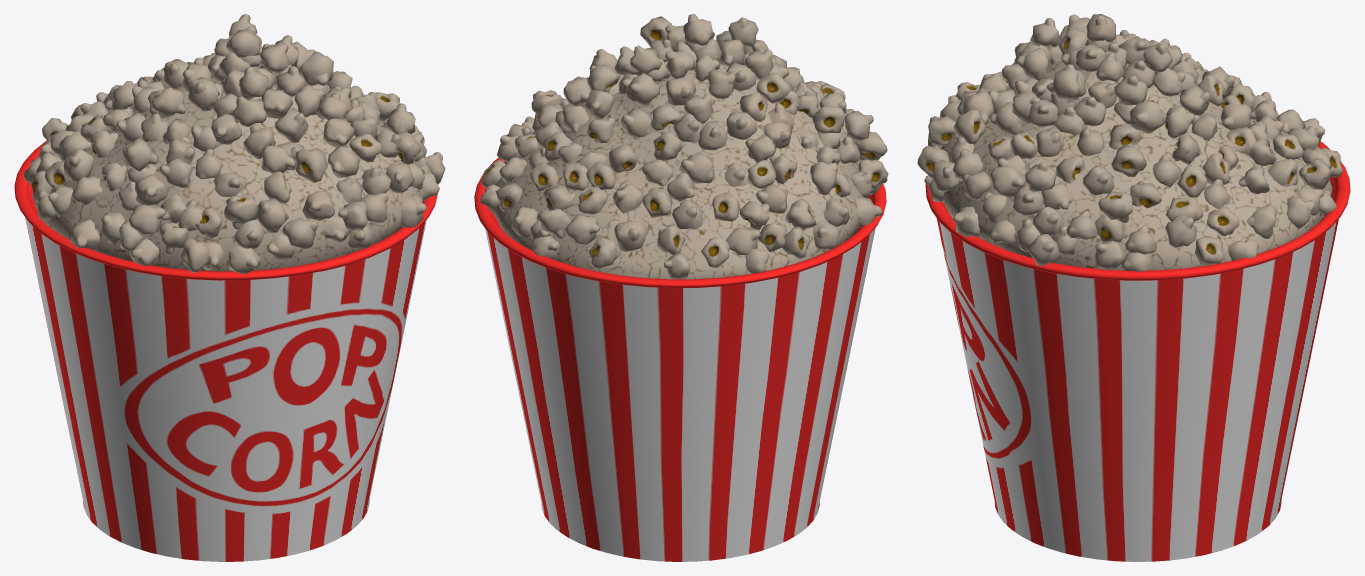
Rendered from popcorn.fbx.
3 renders of one model, left to right at view 1: azimuth 30°, elevation 25°; view 2: azimuth 150°, elevation 25°; view 3: azimuth 270°, elevation 25°, orthographic. The views are drawn at different scales.
Visible parts, largest first — view 1: node_id50; view 2: node_id50; view 3: node_id50.
Part boxes in pixels (<box>): node_id50: <box>14,14,445,561</box>; node_id50: <box>474,14,888,561</box>; node_id50: <box>917,14,1350,561</box>.
Size of the model in its own units: 0.403 by 0.512 by 0.4107.
Materials: 1 (1 with a texture image).
